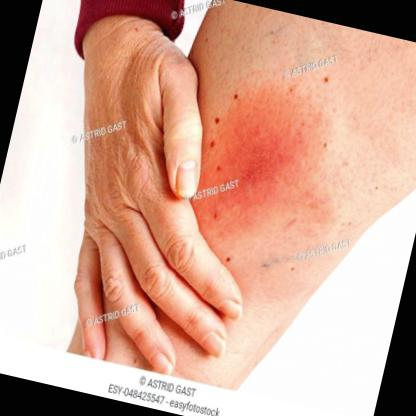Ringworm: (162, 36, 362, 289)
